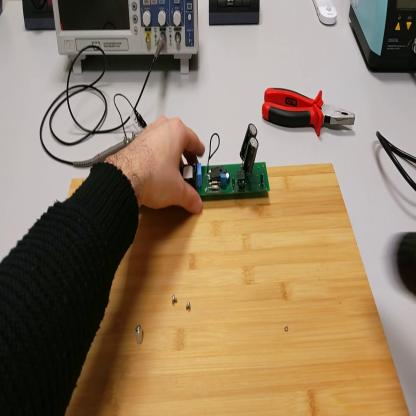electric screwdriver: (393, 233, 416, 306)
hand: (127, 118, 207, 217)
high voltage board: (182, 125, 271, 199)
oscilloscope: (53, 3, 201, 74)
oscilloscope probe tip: (79, 132, 138, 174)
pliers: (259, 87, 357, 142)
socket: (24, 2, 58, 37)
welder station: (350, 2, 416, 71)
working area: (65, 159, 410, 416)
